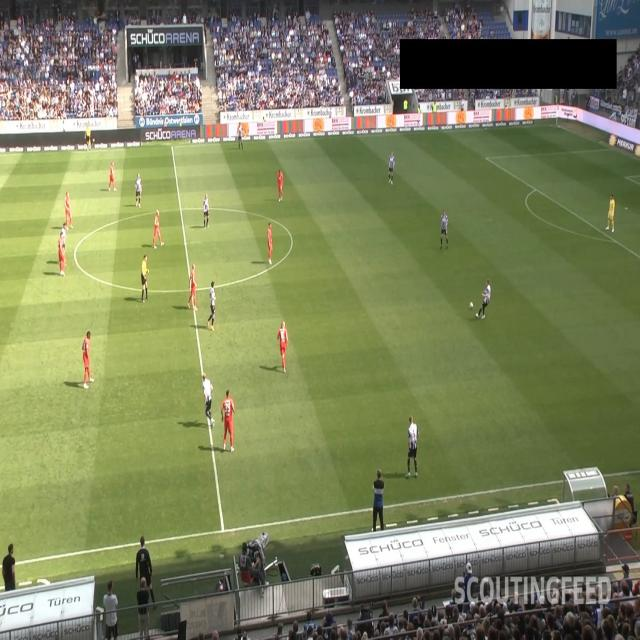ball: (469, 301, 474, 309)
